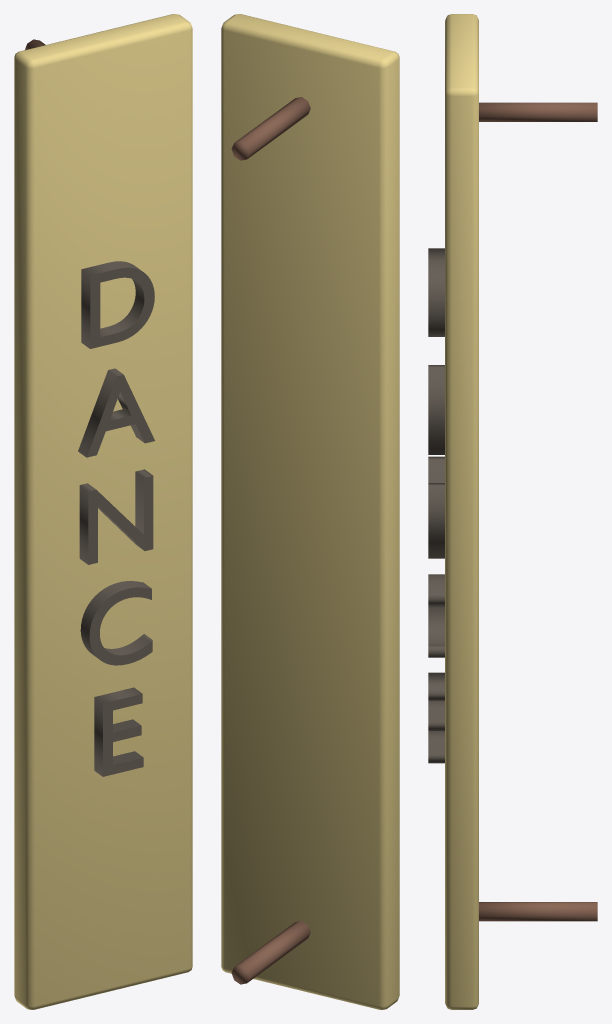
Rendered from insegna_verticale.glb.
The picture shows the model from 3 angles, left to right: view 1: azimuth 30°, elevation 25°; view 2: azimuth 150°, elevation 25°; view 3: azimuth 270°, elevation 25°; orthographic projection. The views are drawn at different scales.
Visible parts, largest first — view 1: insegna_v, insegna_v_testo; view 2: insegna_v, insegna_v_staffa_0, insegna_v_staffa_1; view 3: insegna_v, insegna_v_testo, insegna_v_staffa_0, insegna_v_staffa_1.
Boxes of the visible parts, x1,y1,x2,y2 form: insegna_v: [14, 14, 192, 1009]; insegna_v_testo: [78, 261, 154, 776]; insegna_v: [221, 14, 399, 1009]; insegna_v_staffa_0: [231, 97, 310, 160]; insegna_v_staffa_1: [231, 921, 310, 984]; insegna_v: [445, 14, 478, 1009]; insegna_v_testo: [428, 248, 444, 763]; insegna_v_staffa_0: [479, 102, 597, 121]; insegna_v_staffa_1: [479, 902, 597, 921].
Bounding box in the file's own units: 0.55 × 3 × 0.5.
